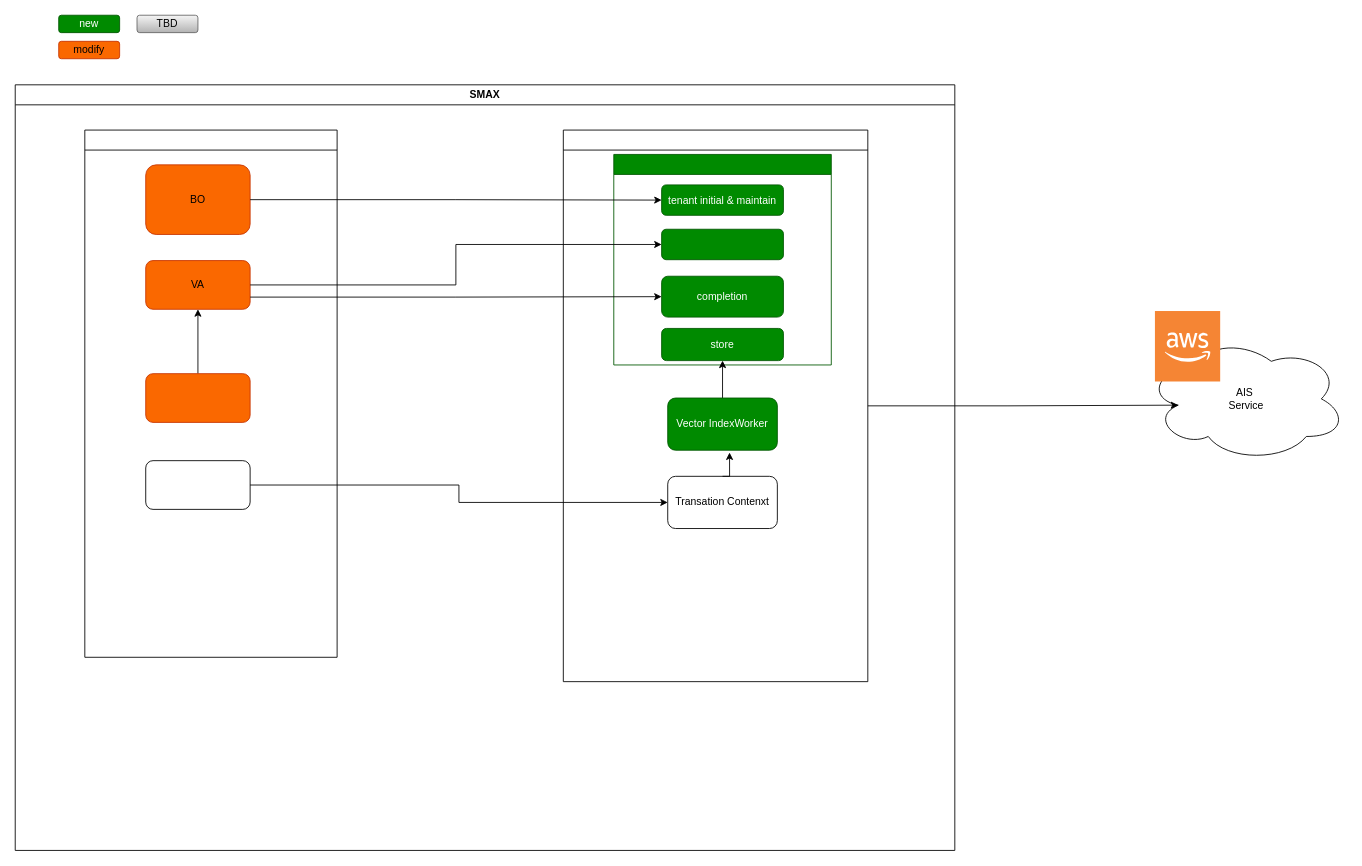
This 1362x866 diagram has some shape labels left out. The box of each missing label's shape, as (x1, y1, x2, y2) in pixels:
Agent: (145, 460, 250, 509)
AIS Client(moudle): (613, 154, 831, 365)
Backend: (562, 129, 868, 682)
Front: (84, 129, 337, 657)
Portal: (145, 373, 250, 422)
search: (661, 228, 783, 260)
